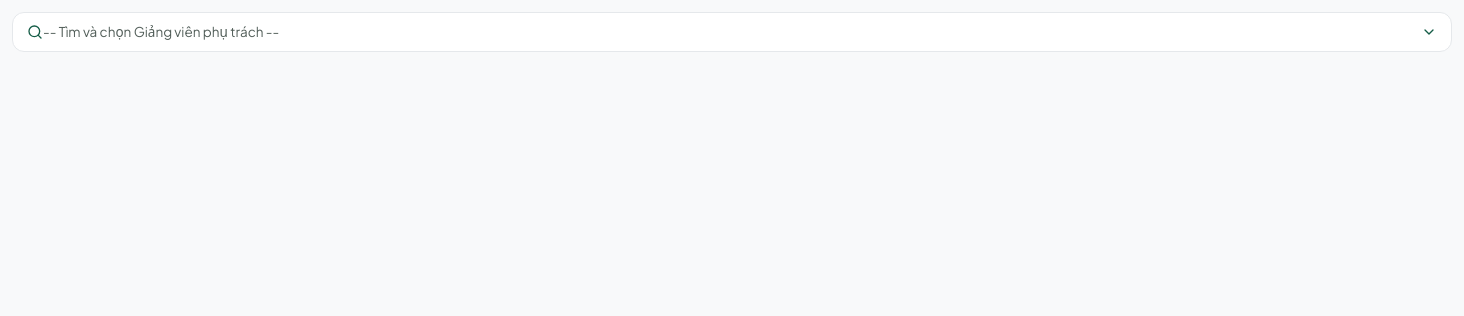
TeacherPicker component › renders dropdown trigger when no teacher is selected and opens dropdown on click
Expected: the text "-- Tìm và chọn Giảng viên phụ trách --" is shown, [43,23,279,41]
What coordinates should you click on to do the following:
click the button "-- Tìm và chọn Giảng viên phụ trách --"
I would click on:
 (161, 32)
Its box is [12,12,1452,52].
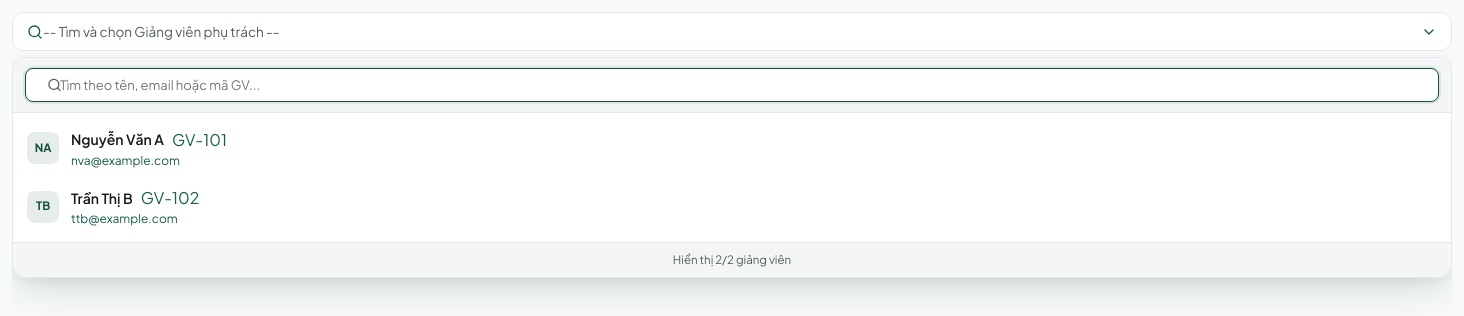
Now the field with placeholder "Tìm theo tên, email hoặc mã GV..." is shown, box [25,68,1439,102]
Now the text "Nguyễn Văn A" is shown, box [71,129,164,150]
Now the text "Trần Thị B" is shown, box [71,188,133,209]
